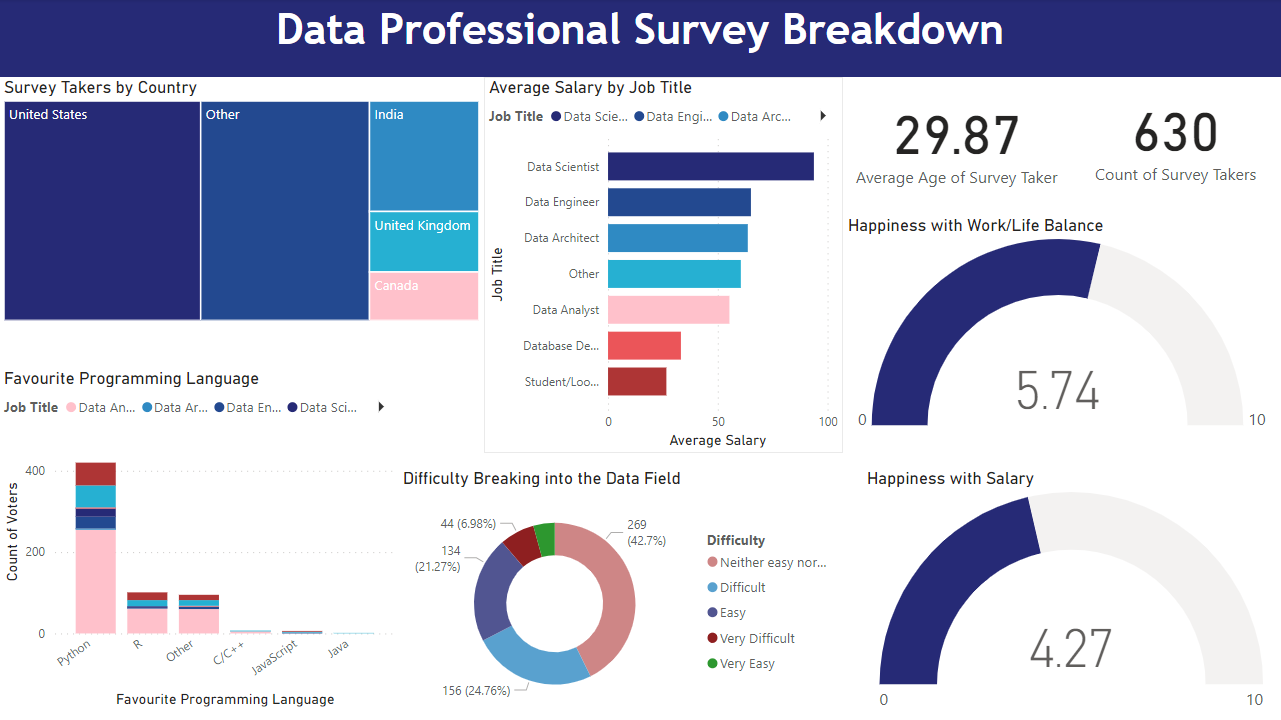

What the dashboard file says about the page in this screenshot:
{"tool":"powerbi","page":{"name":"Page 1","canvas":[1280,720],"ordinal":0},"visuals":[{"type":"textbox","box":[0,0,1280,77.9],"z":0},{"type":"card","fields":{"Values":["Count(Data Professional Survey.Unique ID)"]},"box":[1069.3,77.9,210.7,115.8],"z":1000},{"type":"card","fields":{"Values":["Avg(Data Professional Survey.Q10 - Current Age)"]},"box":[842.7,77.9,226.6,122.8],"z":2000},{"type":"barChart","title":"Average Salary by Job Title","fields":{"Category":["Data Professional Survey.Q1 - Which Title Best Fits your Current Role?.1"],"Y":["Avg(Data Professional Survey.Average Salary)"],"Series":["Data Professional Survey.Q1 - Which Title Best Fits your Current Role?.1"]},"box":[484.2,77.9,358.4,375.4],"z":3000},{"type":"columnChart","title":"Favourite Programming Language","fields":{"Category":["Data Professional Survey.Q5 - Favorite Programming Language.1"],"Y":["CountNonNull(Data Professional Survey.Unique ID)"],"Series":["Data Professional Survey.Q1 - Which Title Best Fits your Current Role?.1"]},"box":[0,368.4,401.4,343.5],"z":4000},{"type":"treemap","title":"Survey Takers by Country","fields":{"Group":["Data Professional Survey.Q11 - Which Country do you live in?.1"],"Values":["CountNonNull(Data Professional Survey.Q11 - Which Country do you live in?.1)"]},"box":[0,77.9,484.2,247.6],"z":5000},{"type":"gauge","title":"Happiness with Work/Life Balance","fields":{"MinValue":["Min(Data Professional Survey.Q6 - How Happy are you in your Current Position with the following? (Work/Life Balance))"],"MaxValue":["Max(Data Professional Survey.Q6 - How Happy are you in your Current Position with the following? (Work/Life Balance))"],"Y":["Avg(Data Professional Survey.Q6 - How Happy are you in your Current Position with the following? (Work/Life Balance))"]},"box":[842.7,215.7,437.3,219.7],"z":6000},{"type":"gauge","title":"Happiness with Salary","fields":{"Y":["Avg(Data Professional Survey.Q6 - How Happy are you in your Current Position with the following? (Salary))"],"MinValue":["Min(Data Professional Survey.Q6 - How Happy are you in your Current Position with the following? (Salary))"],"MaxValue":["Max(Data Professional Survey.Q6 - How Happy are you in your Current Position with the following? (Salary))"]},"box":[861.7,468.3,418.3,251.6],"z":7000},{"type":"donutChart","title":"Difficulty Breaking into the Data Field","fields":{"Category":["Data Professional Survey.Q7 - How difficult was it for you to break into Data?"],"Y":["CountNonNull(Data Professional Survey.Q7 - How difficult was it for you to break into Data?)"]},"box":[398.4,468.3,444.3,251.6],"z":8000}]}

Visuals, with their boxes in screenshot pixels (x1, y1, x2, y2), scaled from the page's 1280x720 canvas onto the 1281x720 screenshot:
textbox: 0:0:1280:78
card - Count(Data Professional Survey.Unique ID): 1070:78:1280:194
card - Avg(Data Professional Survey.Q10 - Current Age): 843:78:1070:201
"Average Salary by Job Title" barChart: 485:78:843:453
"Favourite Programming Language" columnChart: 0:368:402:712
"Survey Takers by Country" treemap: 0:78:485:326
"Happiness with Work/Life Balance" gauge: 843:216:1280:435
"Happiness with Salary" gauge: 862:468:1280:719
"Difficulty Breaking into the Data Field" donutChart: 399:468:843:719
